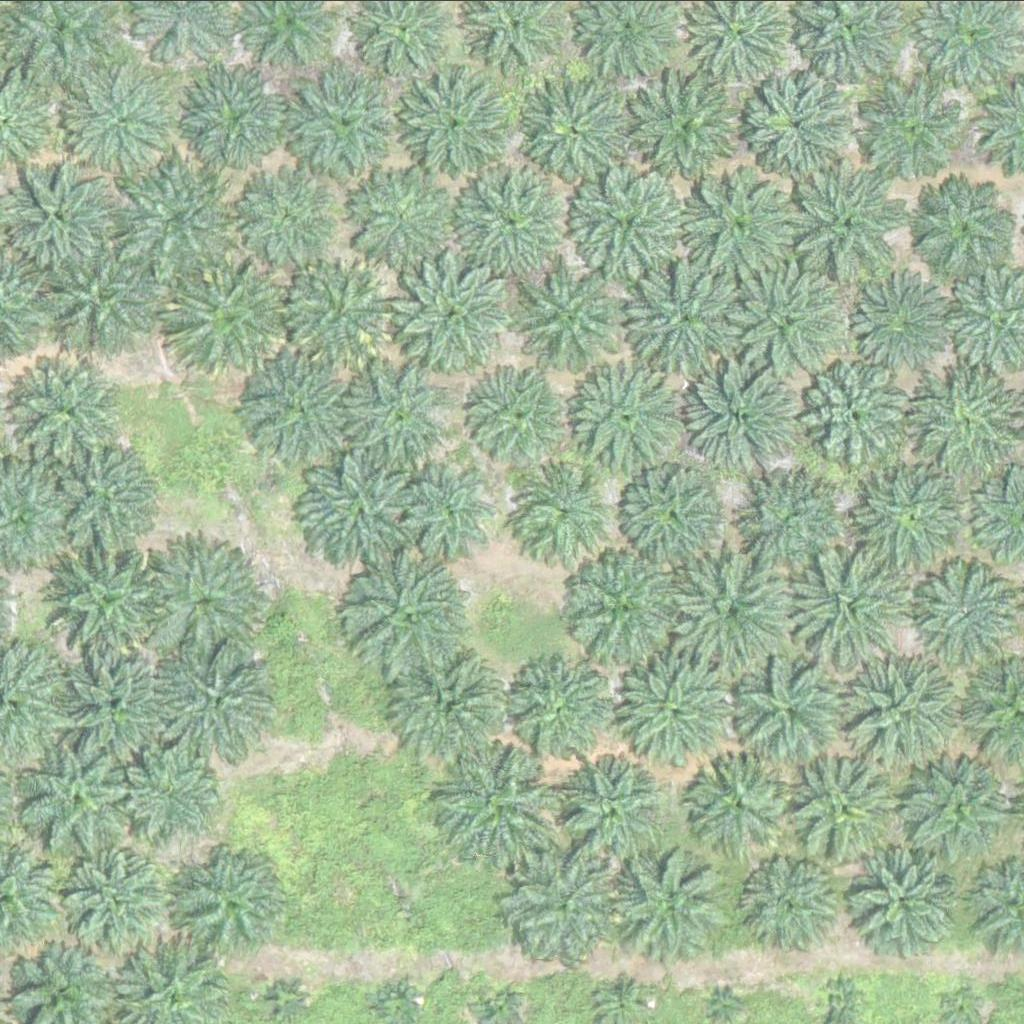Kelapa_Sawit: (19, 738, 145, 863), (155, 638, 281, 763), (40, 539, 166, 664), (144, 535, 270, 660), (298, 448, 424, 573), (351, 554, 477, 679), (436, 737, 562, 862), (669, 547, 795, 672), (559, 545, 685, 670), (837, 650, 963, 775), (785, 543, 911, 668), (173, 255, 298, 380), (56, 849, 170, 962), (118, 736, 232, 849), (390, 647, 504, 760), (175, 845, 288, 958), (48, 444, 161, 557), (5, 157, 118, 270), (185, 61, 298, 174), (396, 71, 509, 184), (392, 253, 505, 366), (519, 256, 632, 369), (632, 262, 745, 375), (566, 363, 679, 476), (740, 263, 853, 376), (683, 169, 796, 282), (617, 657, 730, 770), (734, 658, 847, 771), (798, 165, 911, 278), (843, 269, 956, 382), (688, 363, 802, 475), (906, 752, 1020, 864), (789, 749, 903, 861), (63, 653, 176, 765), (11, 354, 124, 466), (41, 243, 154, 355), (128, 161, 241, 273), (517, 76, 630, 188), (635, 69, 748, 181), (344, 163, 457, 275), (454, 162, 567, 274), (570, 164, 683, 276), (748, 66, 861, 178), (509, 849, 622, 961), (615, 840, 728, 952), (865, 74, 978, 186), (801, 355, 914, 467), (855, 460, 968, 572), (70, 66, 171, 166), (294, 71, 395, 171), (237, 168, 338, 268), (287, 262, 388, 362), (249, 352, 350, 452), (347, 364, 448, 464), (468, 368, 569, 468), (400, 462, 501, 562), (559, 759, 660, 859), (687, 753, 788, 853), (915, 176, 1016, 276), (515, 464, 615, 564), (624, 466, 724, 566), (747, 481, 847, 581), (508, 660, 608, 760), (853, 848, 953, 948), (749, 856, 837, 943), (716, 992, 741, 1017)
